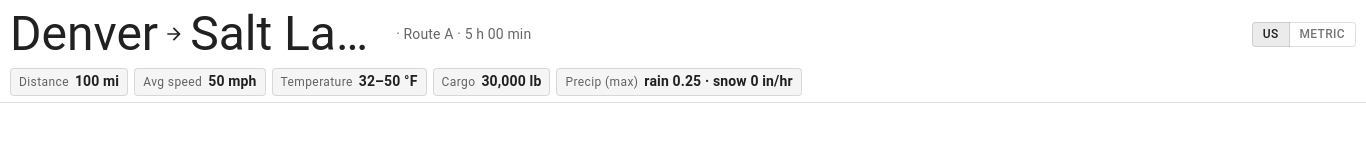
Test case: TripRibbon › each value switches its own unit and the preset switches all
This screenshot has width=1366, height=160.
Click the button "Distance 100 mi".
click(69, 82)  # box [10,68,128,96]
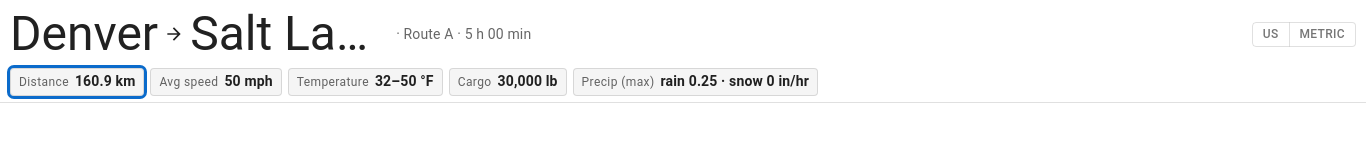
Check: the text "50 mph" is shown, box [224,71,273,91]
Check: the text "160.9 km" is shown, box [75,71,135,91]
Click the button "Metric".
click(1322, 34)  # box [1288,22,1356,47]
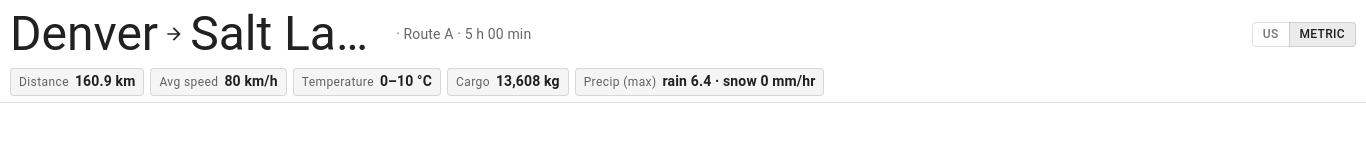
Check: the text "80 km/h" is shown, box [224,71,278,91]
Check: the text "0–10 °C" is shown, box [380,71,432,91]
Check: the text "13,608 kg" is shown, box [496,71,560,91]
